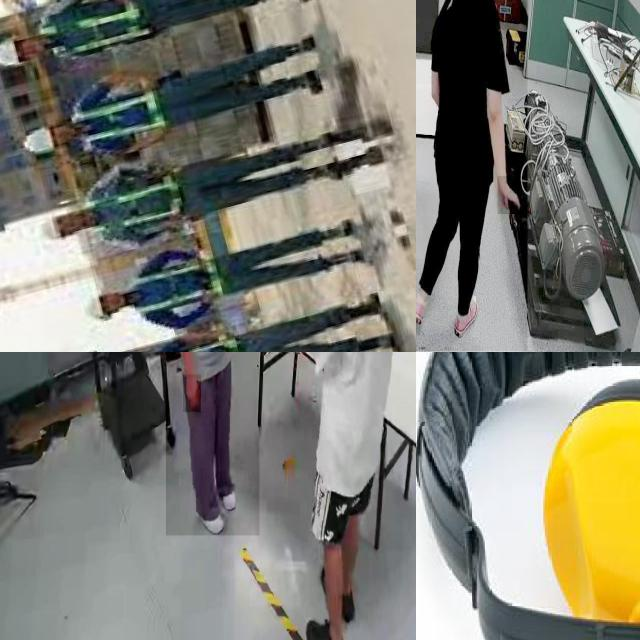Ear-protection: (416, 352, 640, 640)
Harness: (76, 168, 190, 242), (35, 0, 158, 63), (68, 83, 169, 151), (125, 255, 227, 320), (129, 336, 247, 352)
hand_noglove: (498, 176, 522, 215), (183, 374, 201, 412)
person: (416, 0, 528, 351), (268, 352, 397, 640), (166, 352, 260, 536)
shoes: (318, 563, 360, 622), (453, 290, 482, 344), (214, 461, 238, 520), (192, 495, 226, 536), (302, 612, 351, 640), (416, 286, 429, 324)
